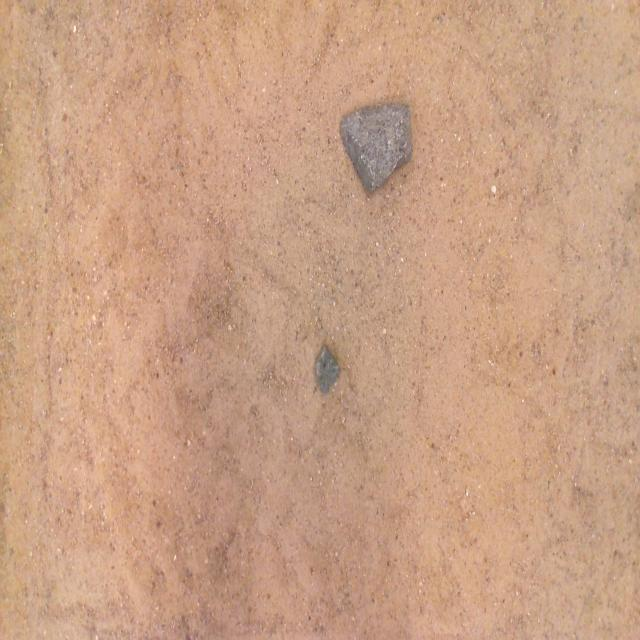rock: (340, 105, 412, 190), (315, 345, 340, 393)
